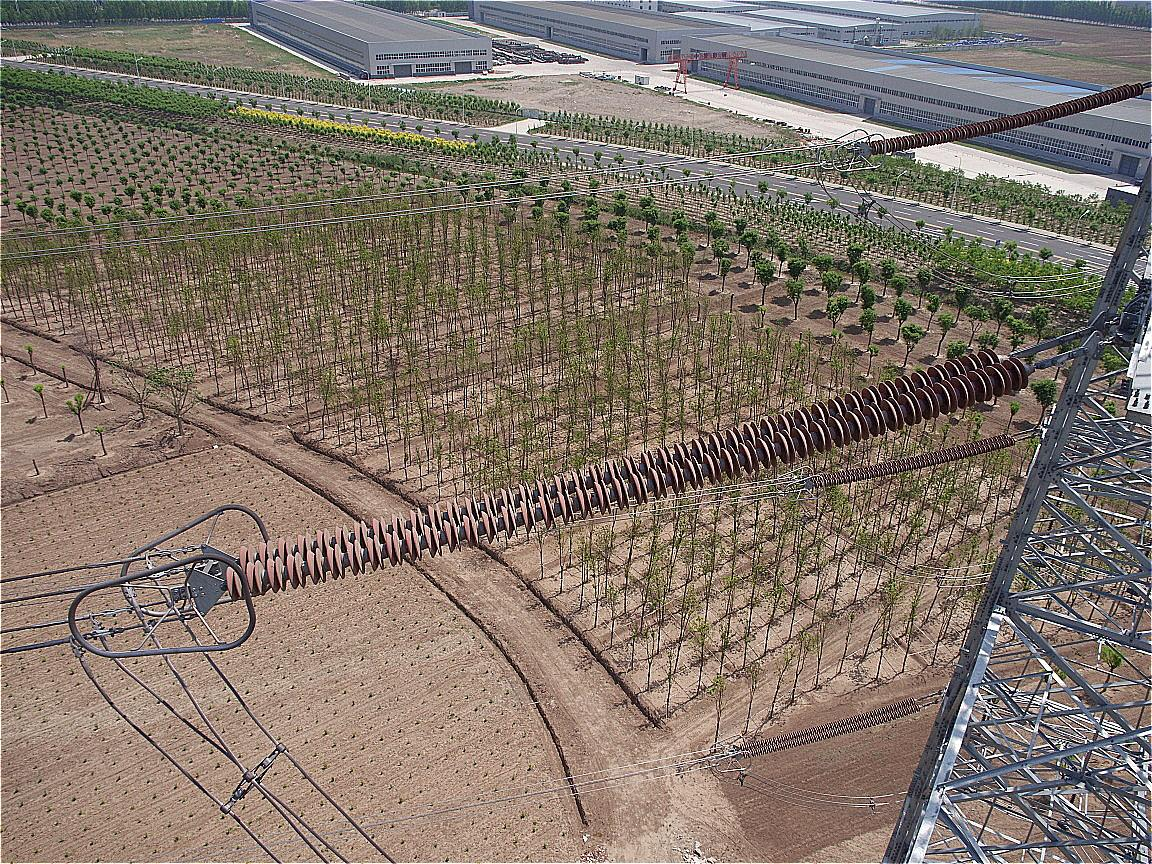insultor2: (206, 328, 1047, 623)
